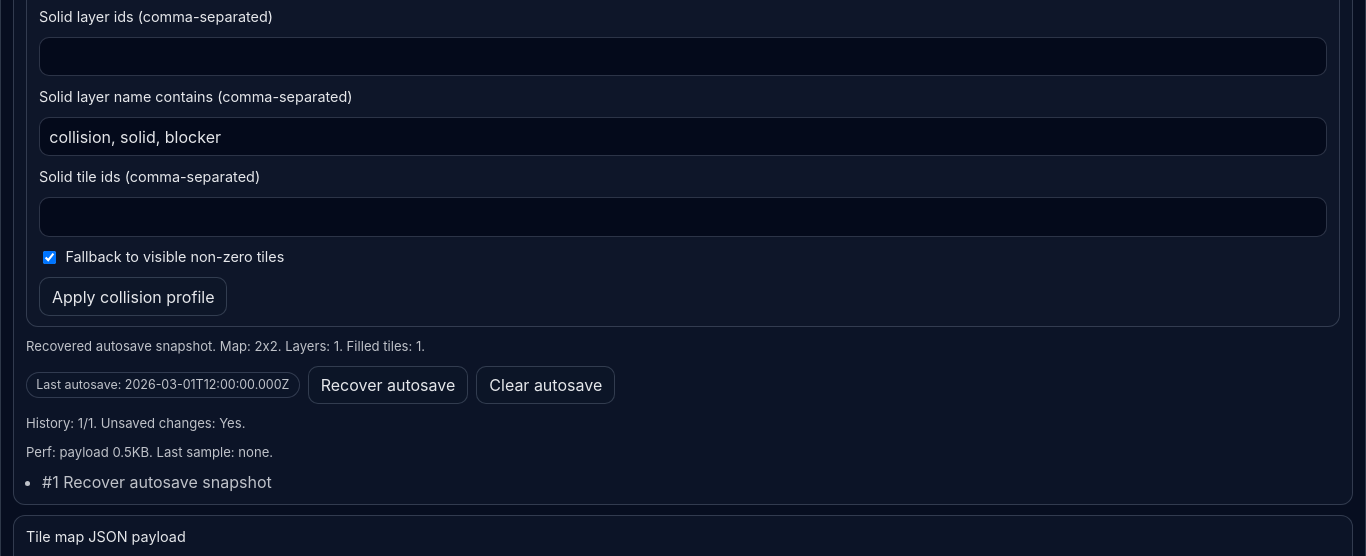
TileMapPlacementToolExample › supports explicit recovery snapshot controls
(page scrolled)
Expected: the button "Recover autosave" is enabled, [308,366,468,404]
Click the button "Clear autosave" at (546, 385), box [476,366,615,404]
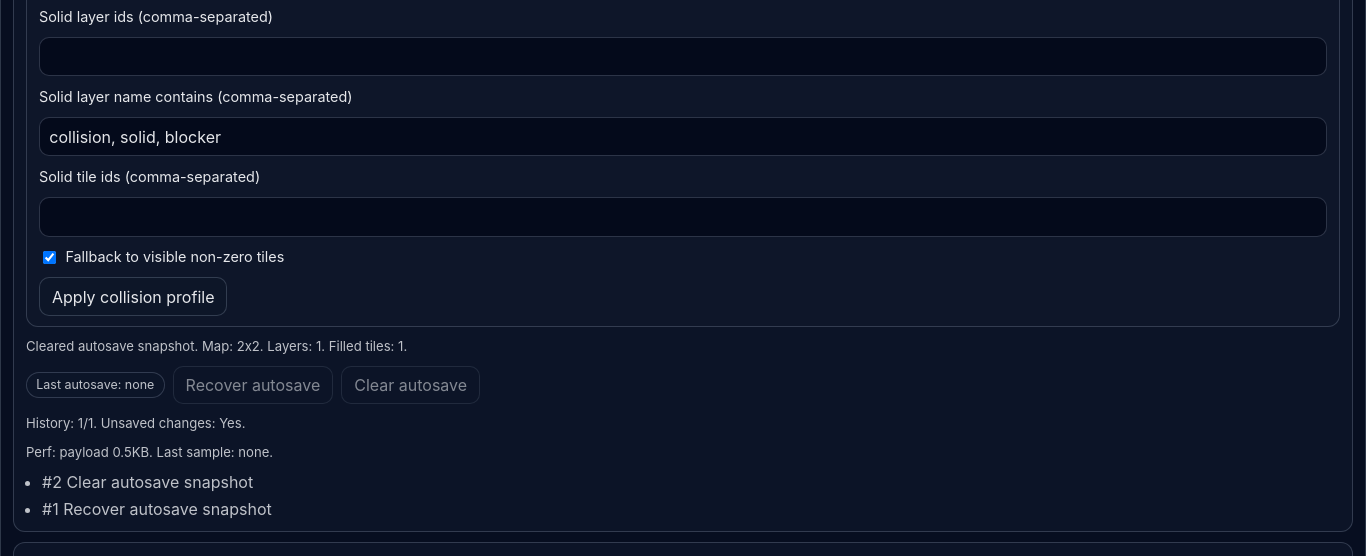
Expected: the text "Cleared autosave snapshot." is shown, [26,338,198,354]
Expected: the button "Recover autosave" is disabled, [173,366,333,404]
Expected: the text "Last autosave: none" is shown, [26,372,165,398]
